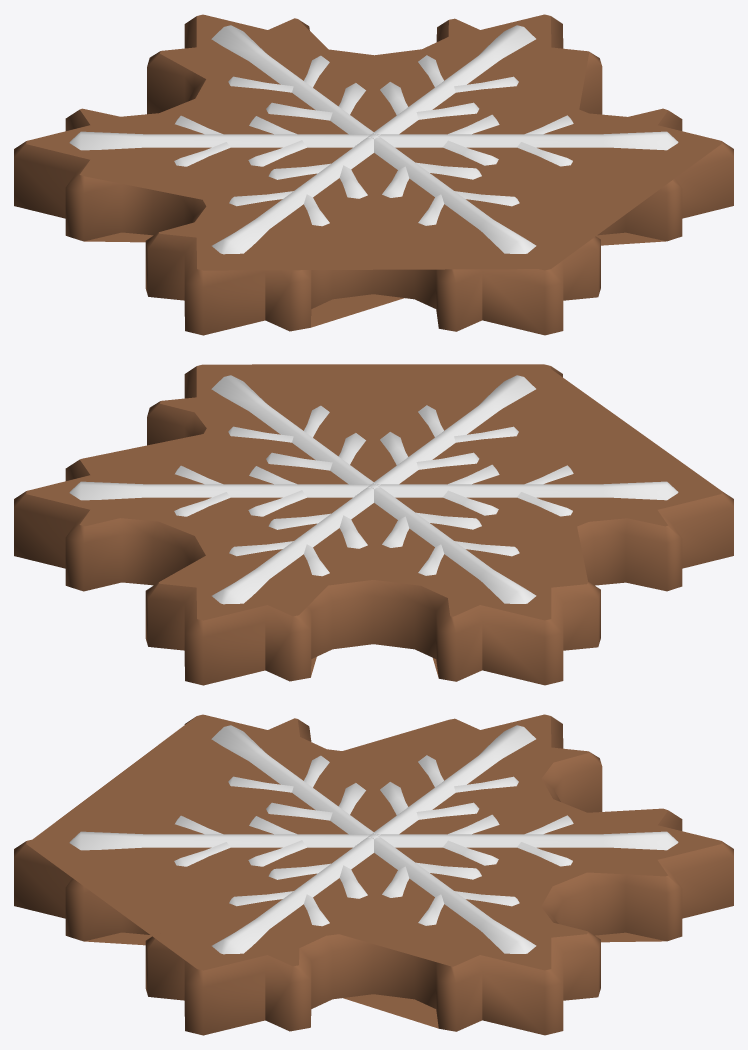
Rendered from CookieSnowflake_01.fbx.
The picture shows the model from 3 angles, top to bottom: view 1: azimuth 30°, elevation 25°; view 2: azimuth 150°, elevation 25°; view 3: azimuth 270°, elevation 25°; orthographic projection.
Visible parts, largest first — view 1: CookieSnowflake_01; view 2: CookieSnowflake_01; view 3: CookieSnowflake_01.
Boxes of the visible parts, x1=… form: CookieSnowflake_01: x1=14, y1=14, x2=733, y2=335; CookieSnowflake_01: x1=14, y1=364, x2=733, y2=685; CookieSnowflake_01: x1=14, y1=714, x2=733, y2=1035.
Bounding box in the file's own units: 0.1378 × 0.0164 × 0.1565.
